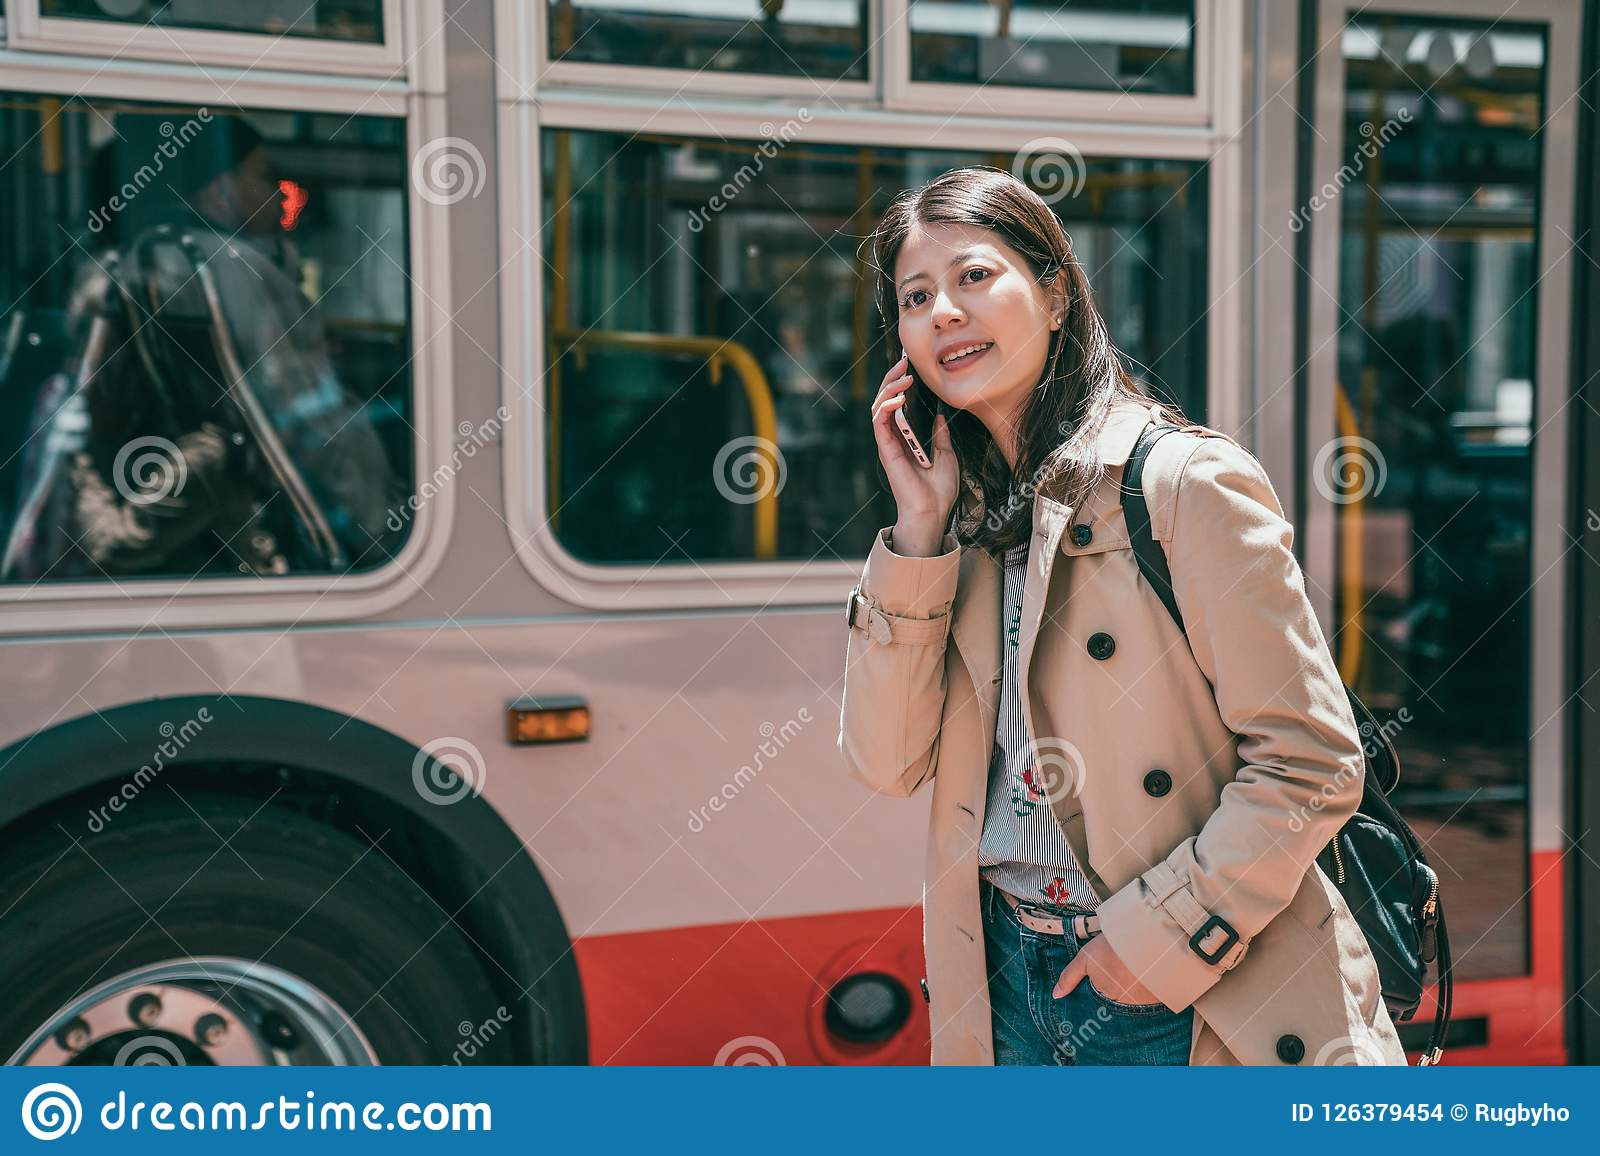phone: (887, 339, 942, 477)
talk: (873, 245, 1019, 531)
